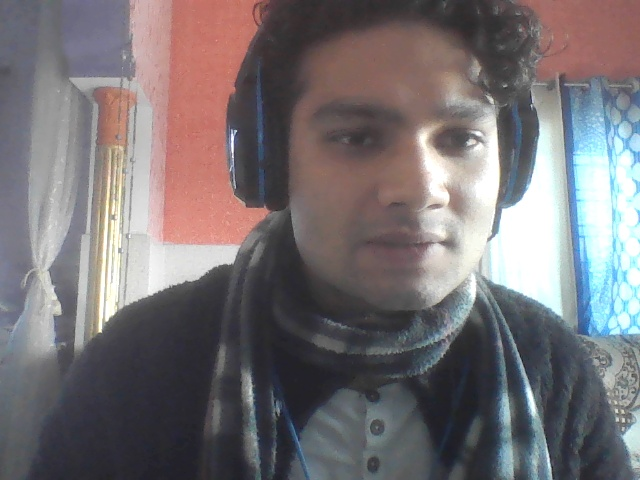real: (242, 0, 526, 402)
